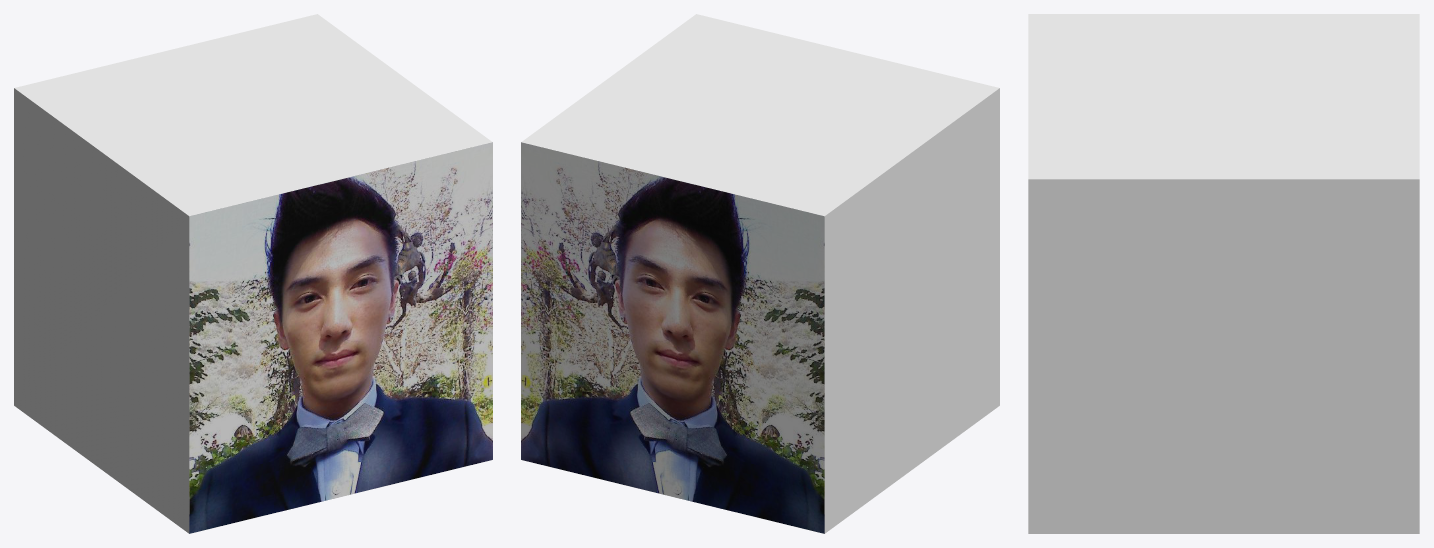
File: daniel.dae
The picture shows the model from 3 angles, left to right: view 1: azimuth 30°, elevation 25°; view 2: azimuth 150°, elevation 25°; view 3: azimuth 270°, elevation 25°; orthographic projection. The views are drawn at different scales.
Parts seen in each view (by area): view 1: Background; view 2: Background; view 3: Background.
Boxes of the visible parts, bbox=[...] form: Background: bbox=[14, 14, 492, 533]; Background: bbox=[521, 14, 999, 533]; Background: bbox=[1028, 14, 1419, 533].
Bounding box in the file's own units: 6.39 × 6.39 × 6.39.
Materials: 3 (3 with a texture image).
